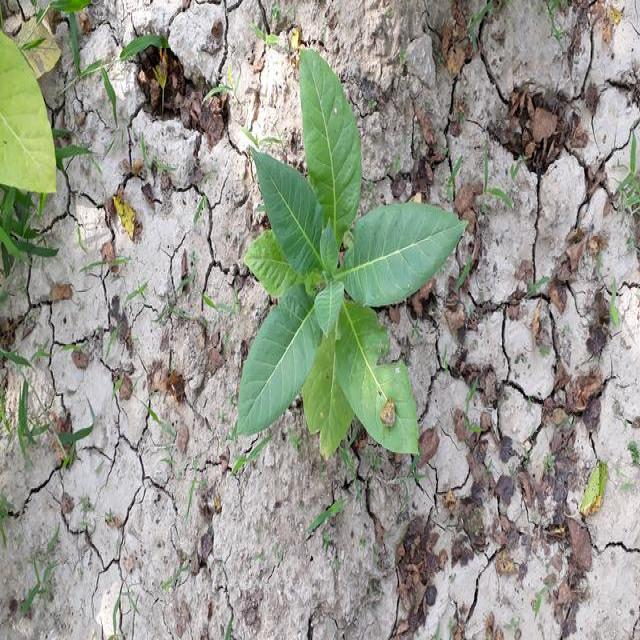crop: (241, 63, 452, 462)
